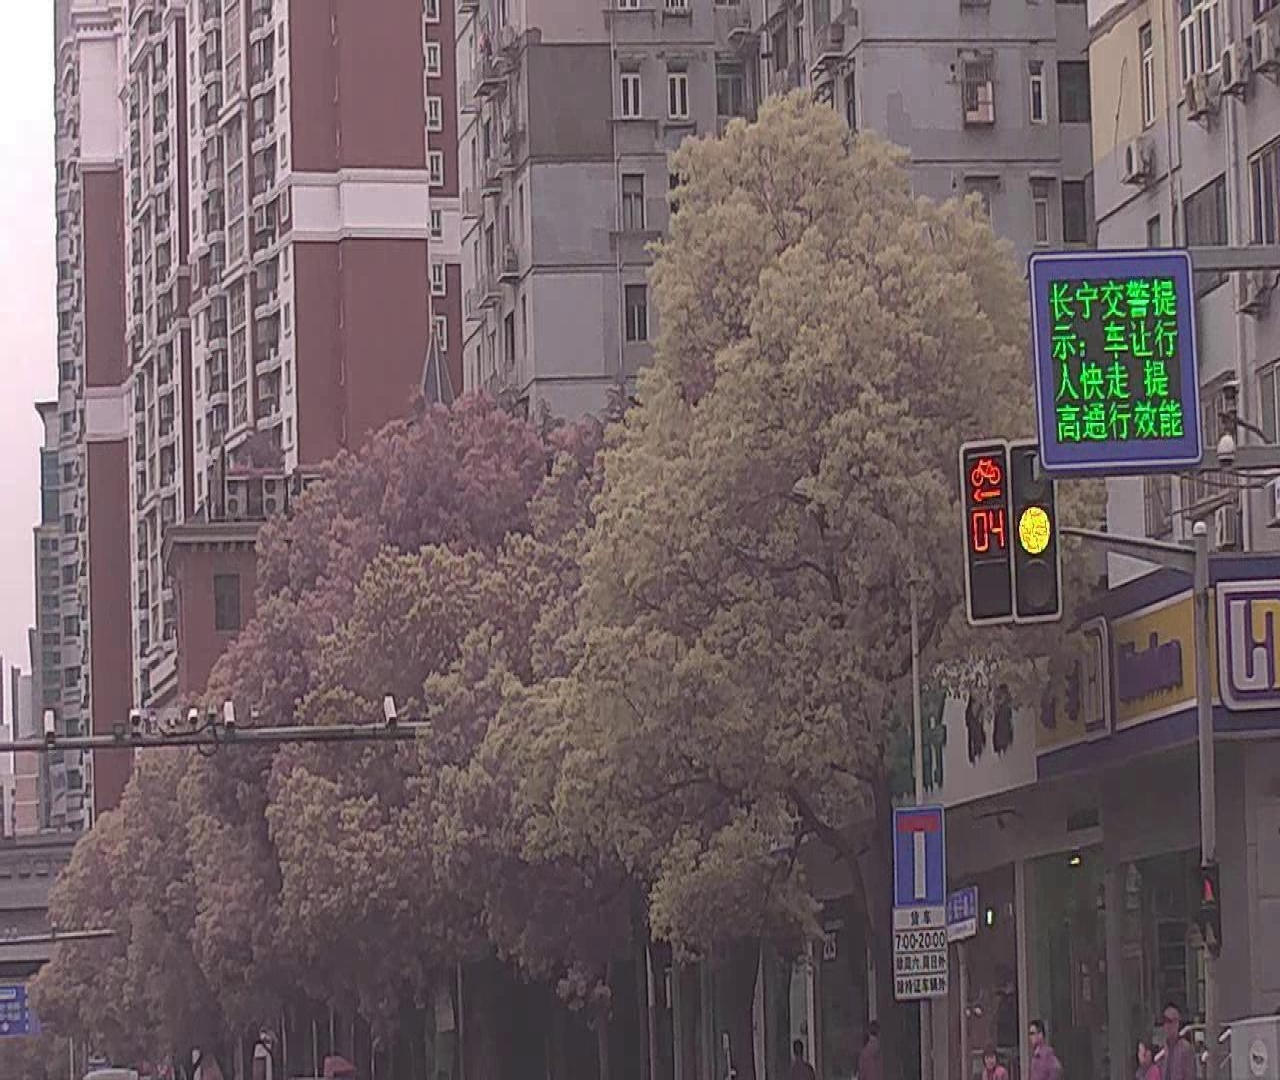red: (961, 448, 1013, 625)
yellow: (1015, 447, 1067, 615)
